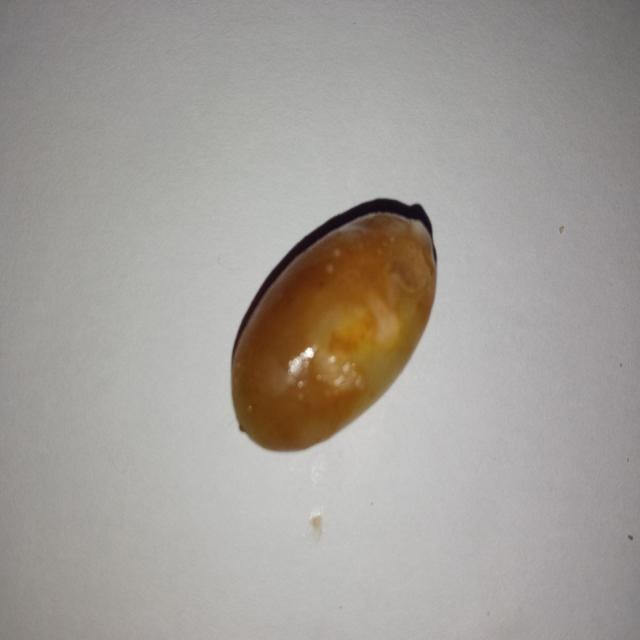rotten_grape: (230, 208, 436, 452)
